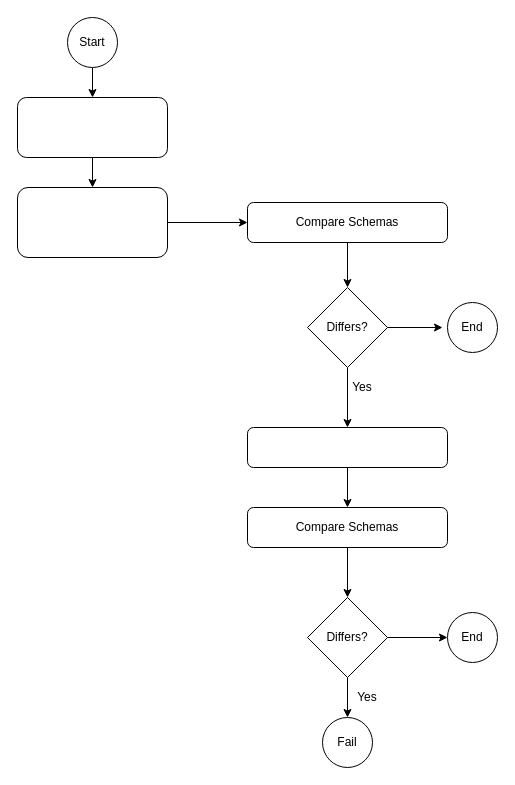
Some shapes in this 515 by 785 pixel diagram are drawn without their labels. The shapes that lost their labels are listed below. From the top down, each one's centre as x and y in pixels, then its label:
At pixel 92 127: "Create Synced Schema from TypeORM Annotations".
At pixel 92 222: "Create Production Schema from last deployment".
At pixel 347 447: "Apply Migrations on Production Schema".
